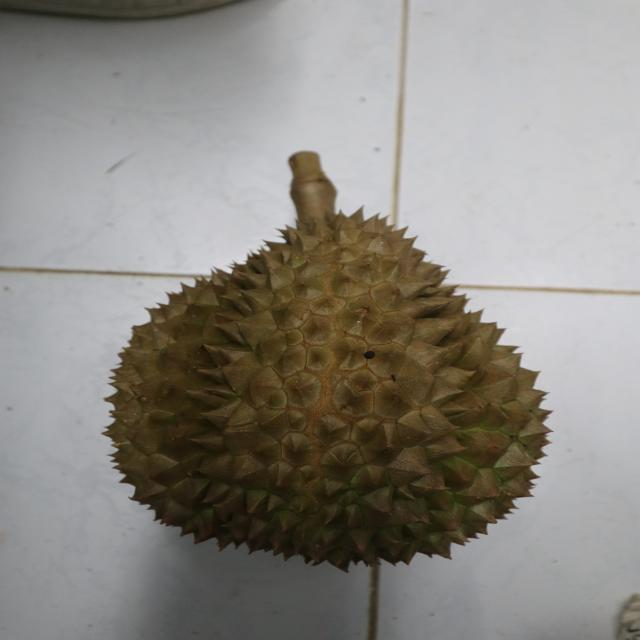mature: (104, 211, 562, 568)
